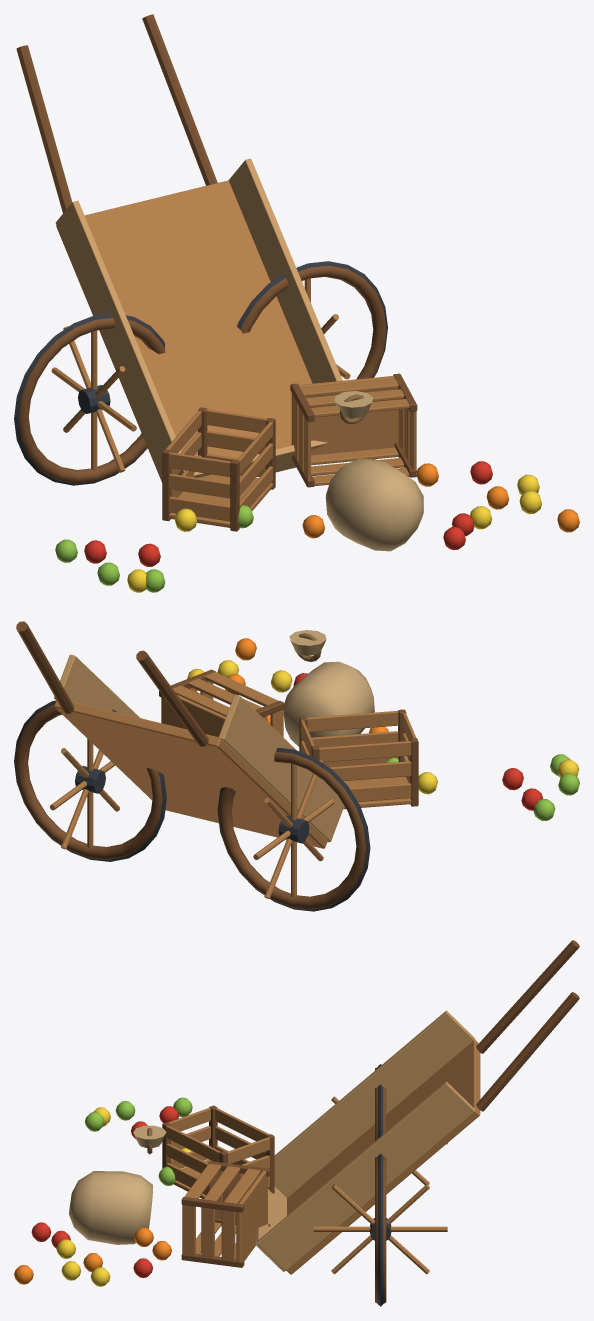
Rendered from mk_handcart_tipped.glb.
The picture shows the model from 3 angles, top to bottom: view 1: azimuth 30°, elevation 25°; view 2: azimuth 150°, elevation 25°; view 3: azimuth 270°, elevation 25°; orthographic projection. The views are drawn at different scales.
Parts seen in each view (by area): view 1: mk_handcart_tipped_body; view 2: mk_handcart_tipped_body; view 3: mk_handcart_tipped_body.
Boxes of the visible parts, left/top/right/bottom form: mk_handcart_tipped_body: left=14, top=14, right=579, bottom=592; mk_handcart_tipped_body: left=14, top=621, right=579, bottom=911; mk_handcart_tipped_body: left=14, top=940, right=579, bottom=1306.
Bounding box in the file's own units: 2.86 × 2.09 × 3.71.
